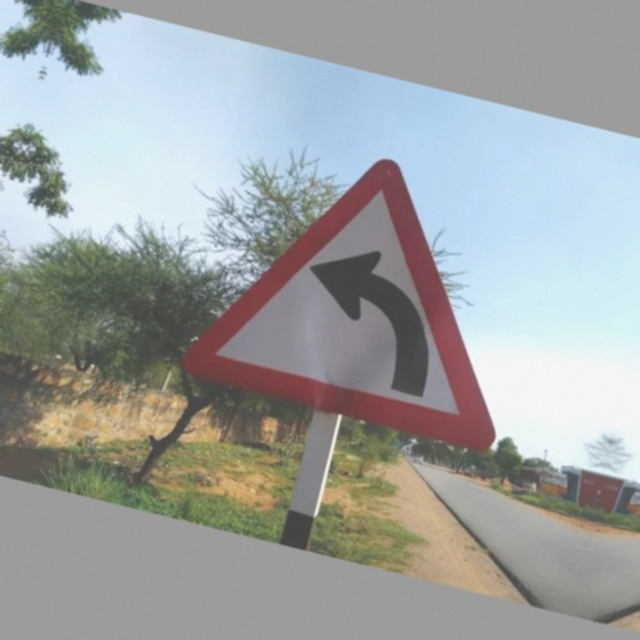Left_Hand_Curve: (199, 130, 551, 454)
